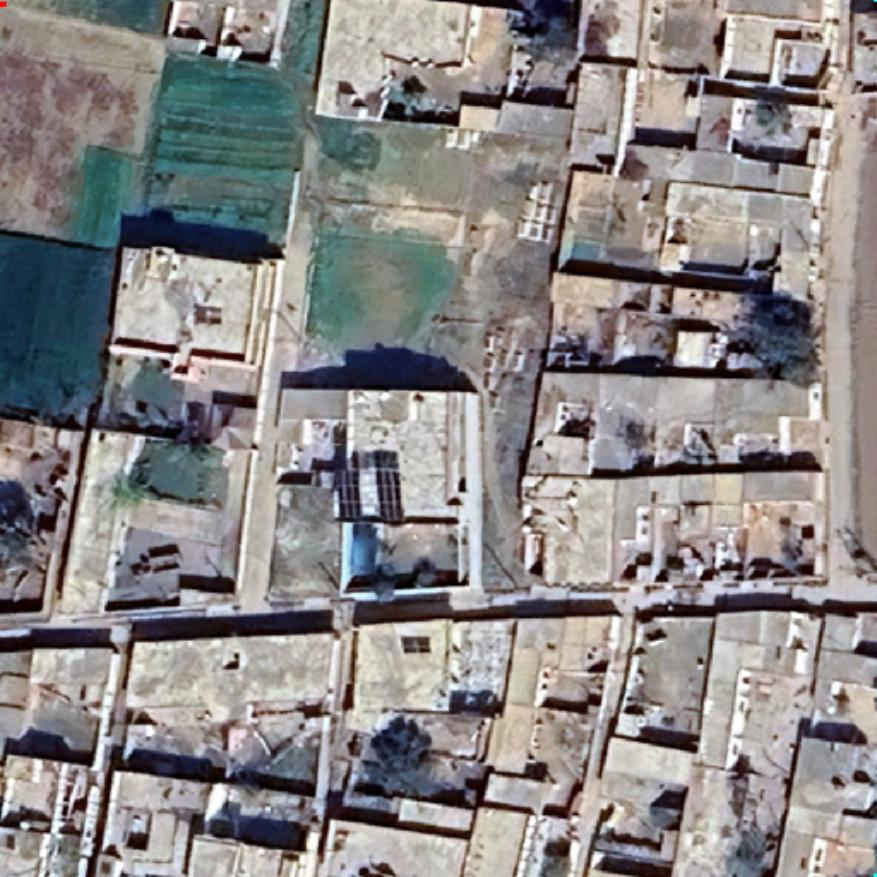Solarpanel: (370, 446, 408, 528), (331, 449, 367, 525)
